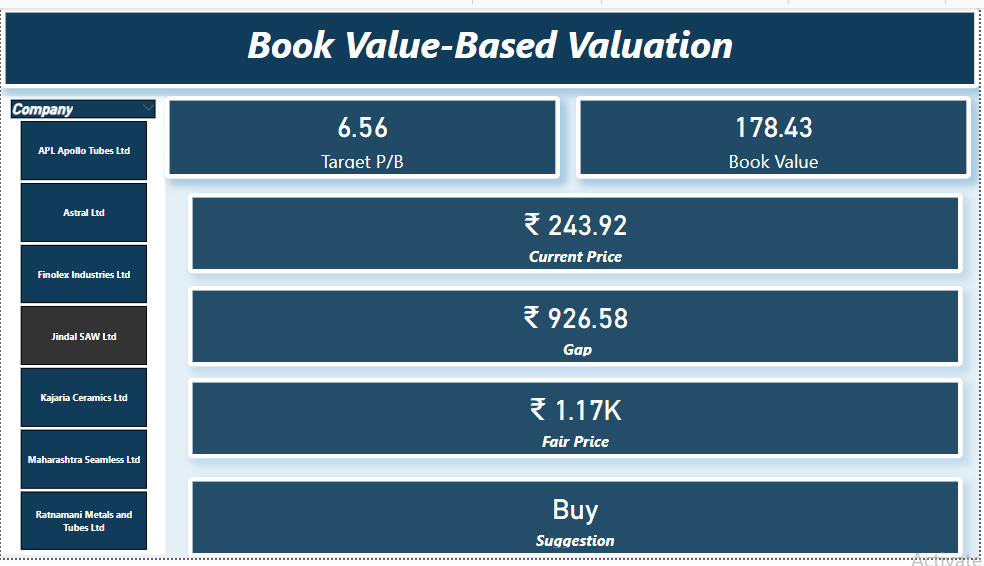

Layout of this report page (visuals, bound fields, positions):
{"tool":"powerbi","page":{"name":"PB","canvas":[1280,720],"ordinal":13},"visuals":[{"type":"slicer","fields":{"Values":["Sheet2.Company"]},"box":[0,115.8,215.3,601.4],"z":0},{"type":"textbox","box":[0,0,1280,105.4],"z":1},{"type":"card","fields":{"Values":["Min(Sheet1.Suggestion)"]},"box":[245,614.6,1014.2,105.4],"z":2},{"type":"card","fields":{"Values":["Sum(Sheet1.Current Price)"]},"box":[245,242,1014.2,105.4],"z":3},{"type":"card","fields":{"Values":["Sum(Sheet1.Fair Price)"]},"box":[245,484.1,1014.2,105.4],"z":4},{"type":"card","fields":{"Values":["Sum(Sheet1.Gap)"]},"box":[245,363.8,1014.2,105.4],"z":5},{"type":"card","fields":{"Values":["Sum(Sheet1.Target P/B)"]},"box":[215.3,115.8,516.8,108.4],"z":6},{"type":"card","fields":{"Values":["Sum(Sheet1.Book Value )"]},"box":[752.9,115.8,516.8,108.4],"z":7}]}

Visuals, with their boxes on the page's 1280x720 design canvas (x1, y1, x2, y2). These are canvas units, not pixel positions in the 984x566 screenshot, which may show the page scaled, cropped or inside an application window:
slicer - Sheet2.Company: (left=0, top=116, right=215, bottom=717)
textbox: (left=0, top=0, right=1280, bottom=105)
card - Min(Sheet1.Suggestion): (left=245, top=615, right=1259, bottom=720)
card - Sum(Sheet1.Current Price): (left=245, top=242, right=1259, bottom=347)
card - Sum(Sheet1.Fair Price): (left=245, top=484, right=1259, bottom=590)
card - Sum(Sheet1.Gap): (left=245, top=364, right=1259, bottom=469)
card - Sum(Sheet1.Target P/B): (left=215, top=116, right=732, bottom=224)
card - Sum(Sheet1.Book Value ): (left=753, top=116, right=1270, bottom=224)
